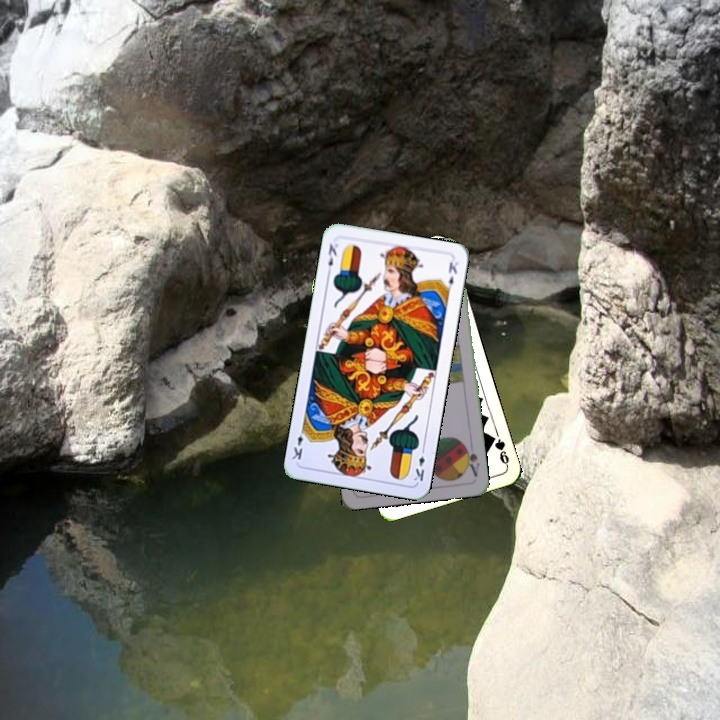EK: (410, 443, 428, 484), (323, 240, 340, 278)
G9: (486, 431, 512, 469)
SA: (460, 439, 482, 479)
